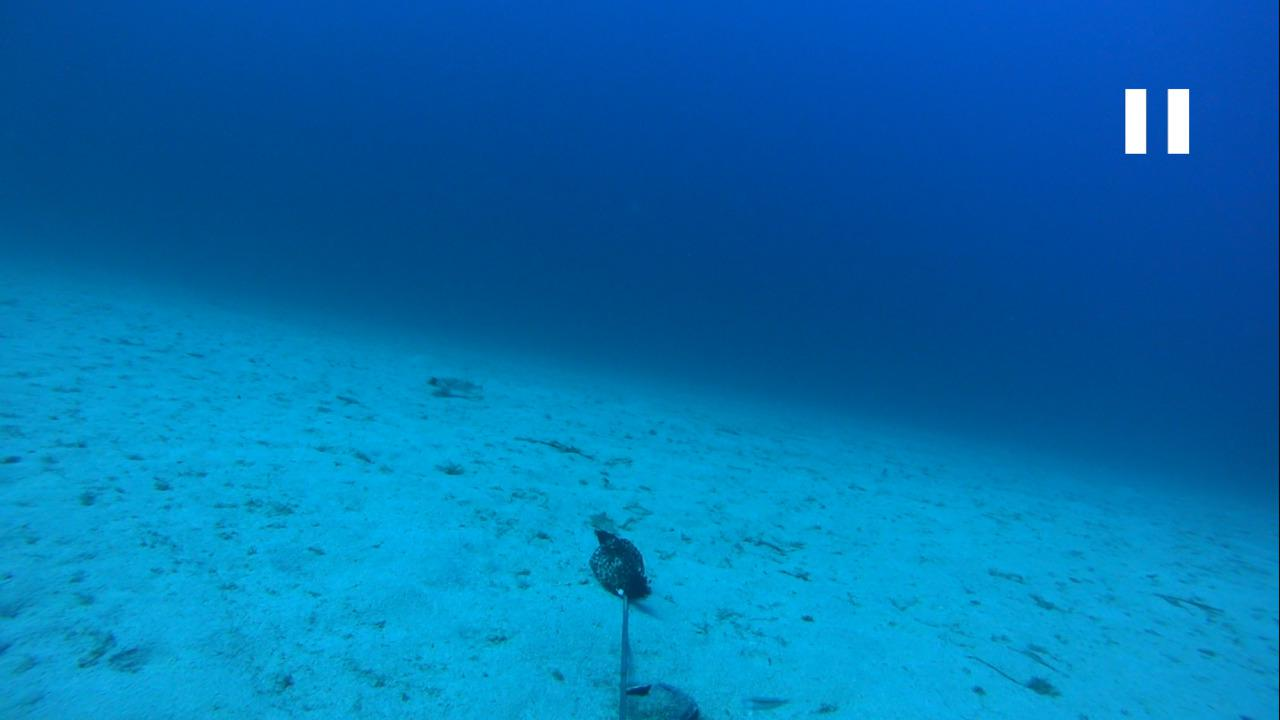dactylopterus: (411, 367, 491, 409)
